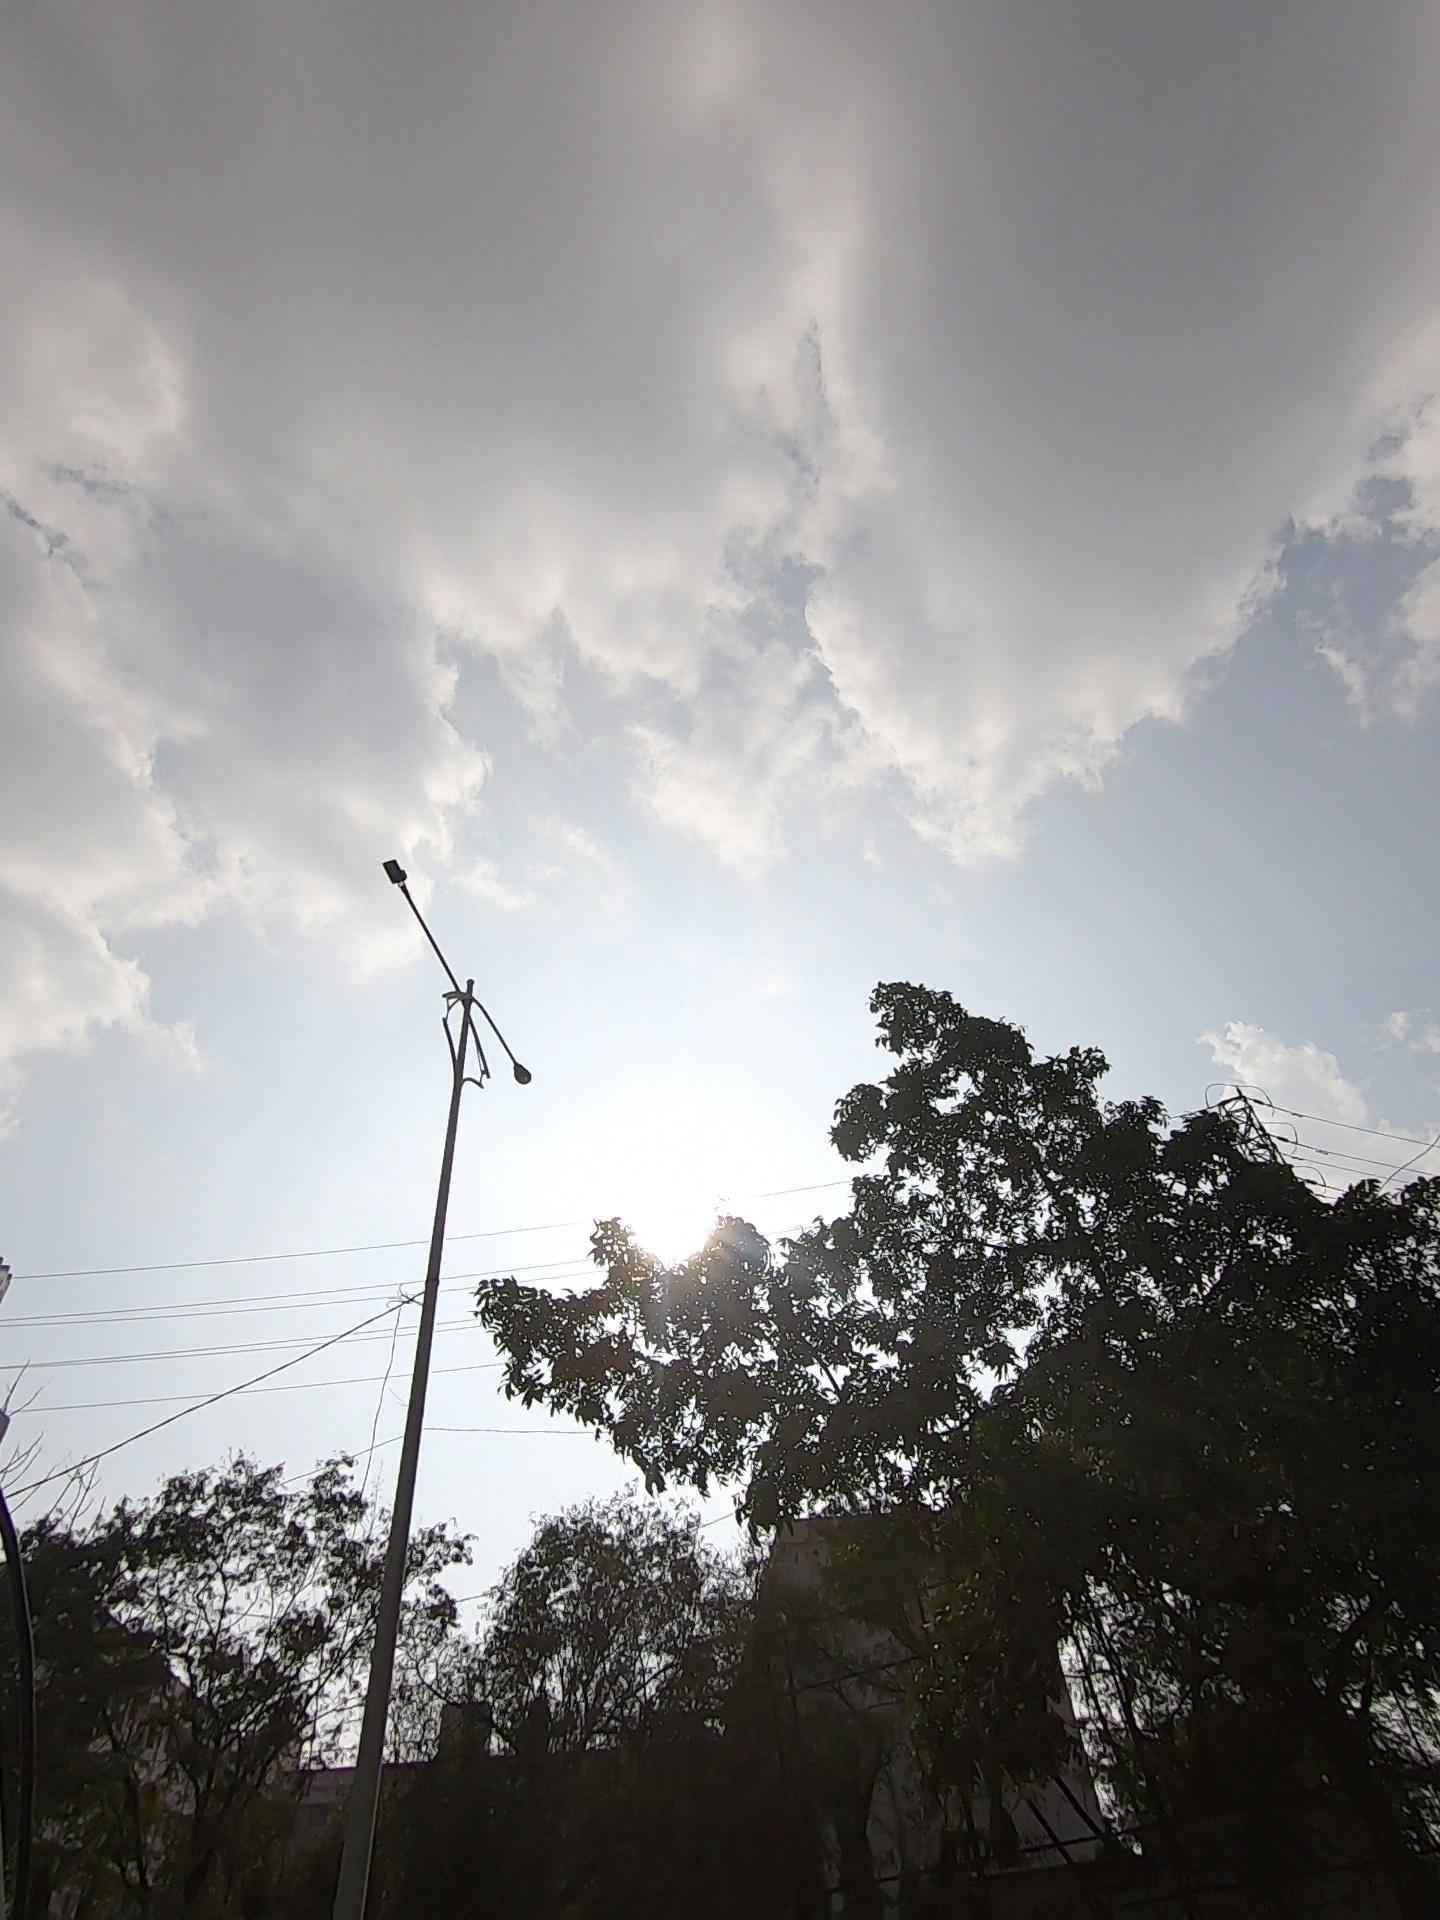off: (340, 791, 635, 1123)
